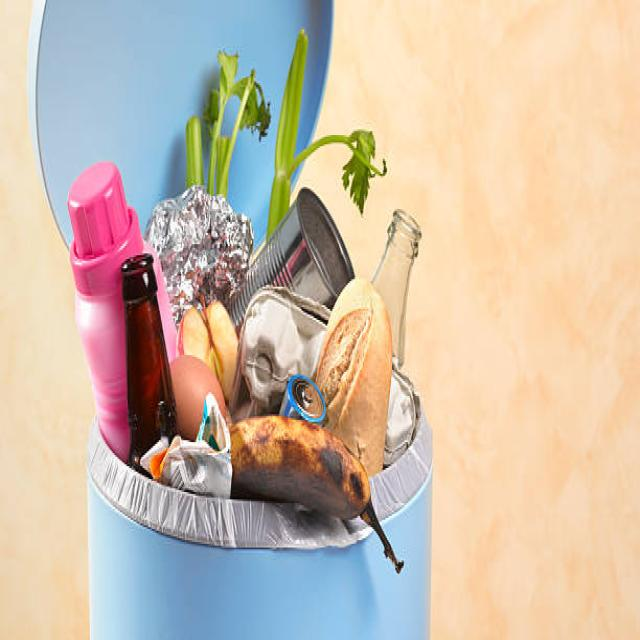trash: (58, 113, 422, 499)
